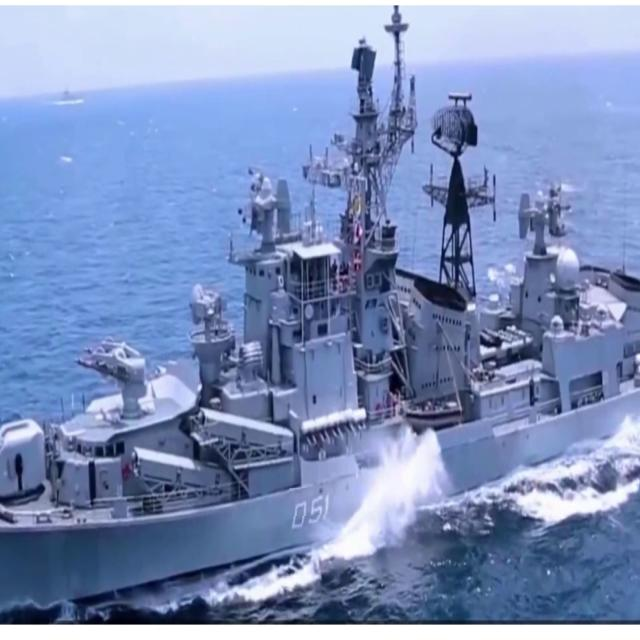OCR: (281, 488, 332, 539)
